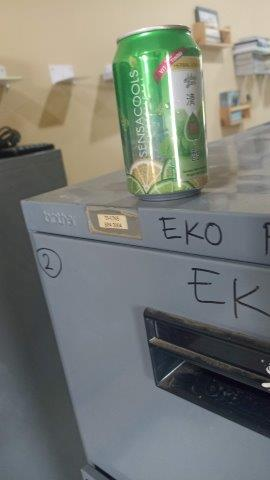kaleng: (113, 23, 209, 201)
